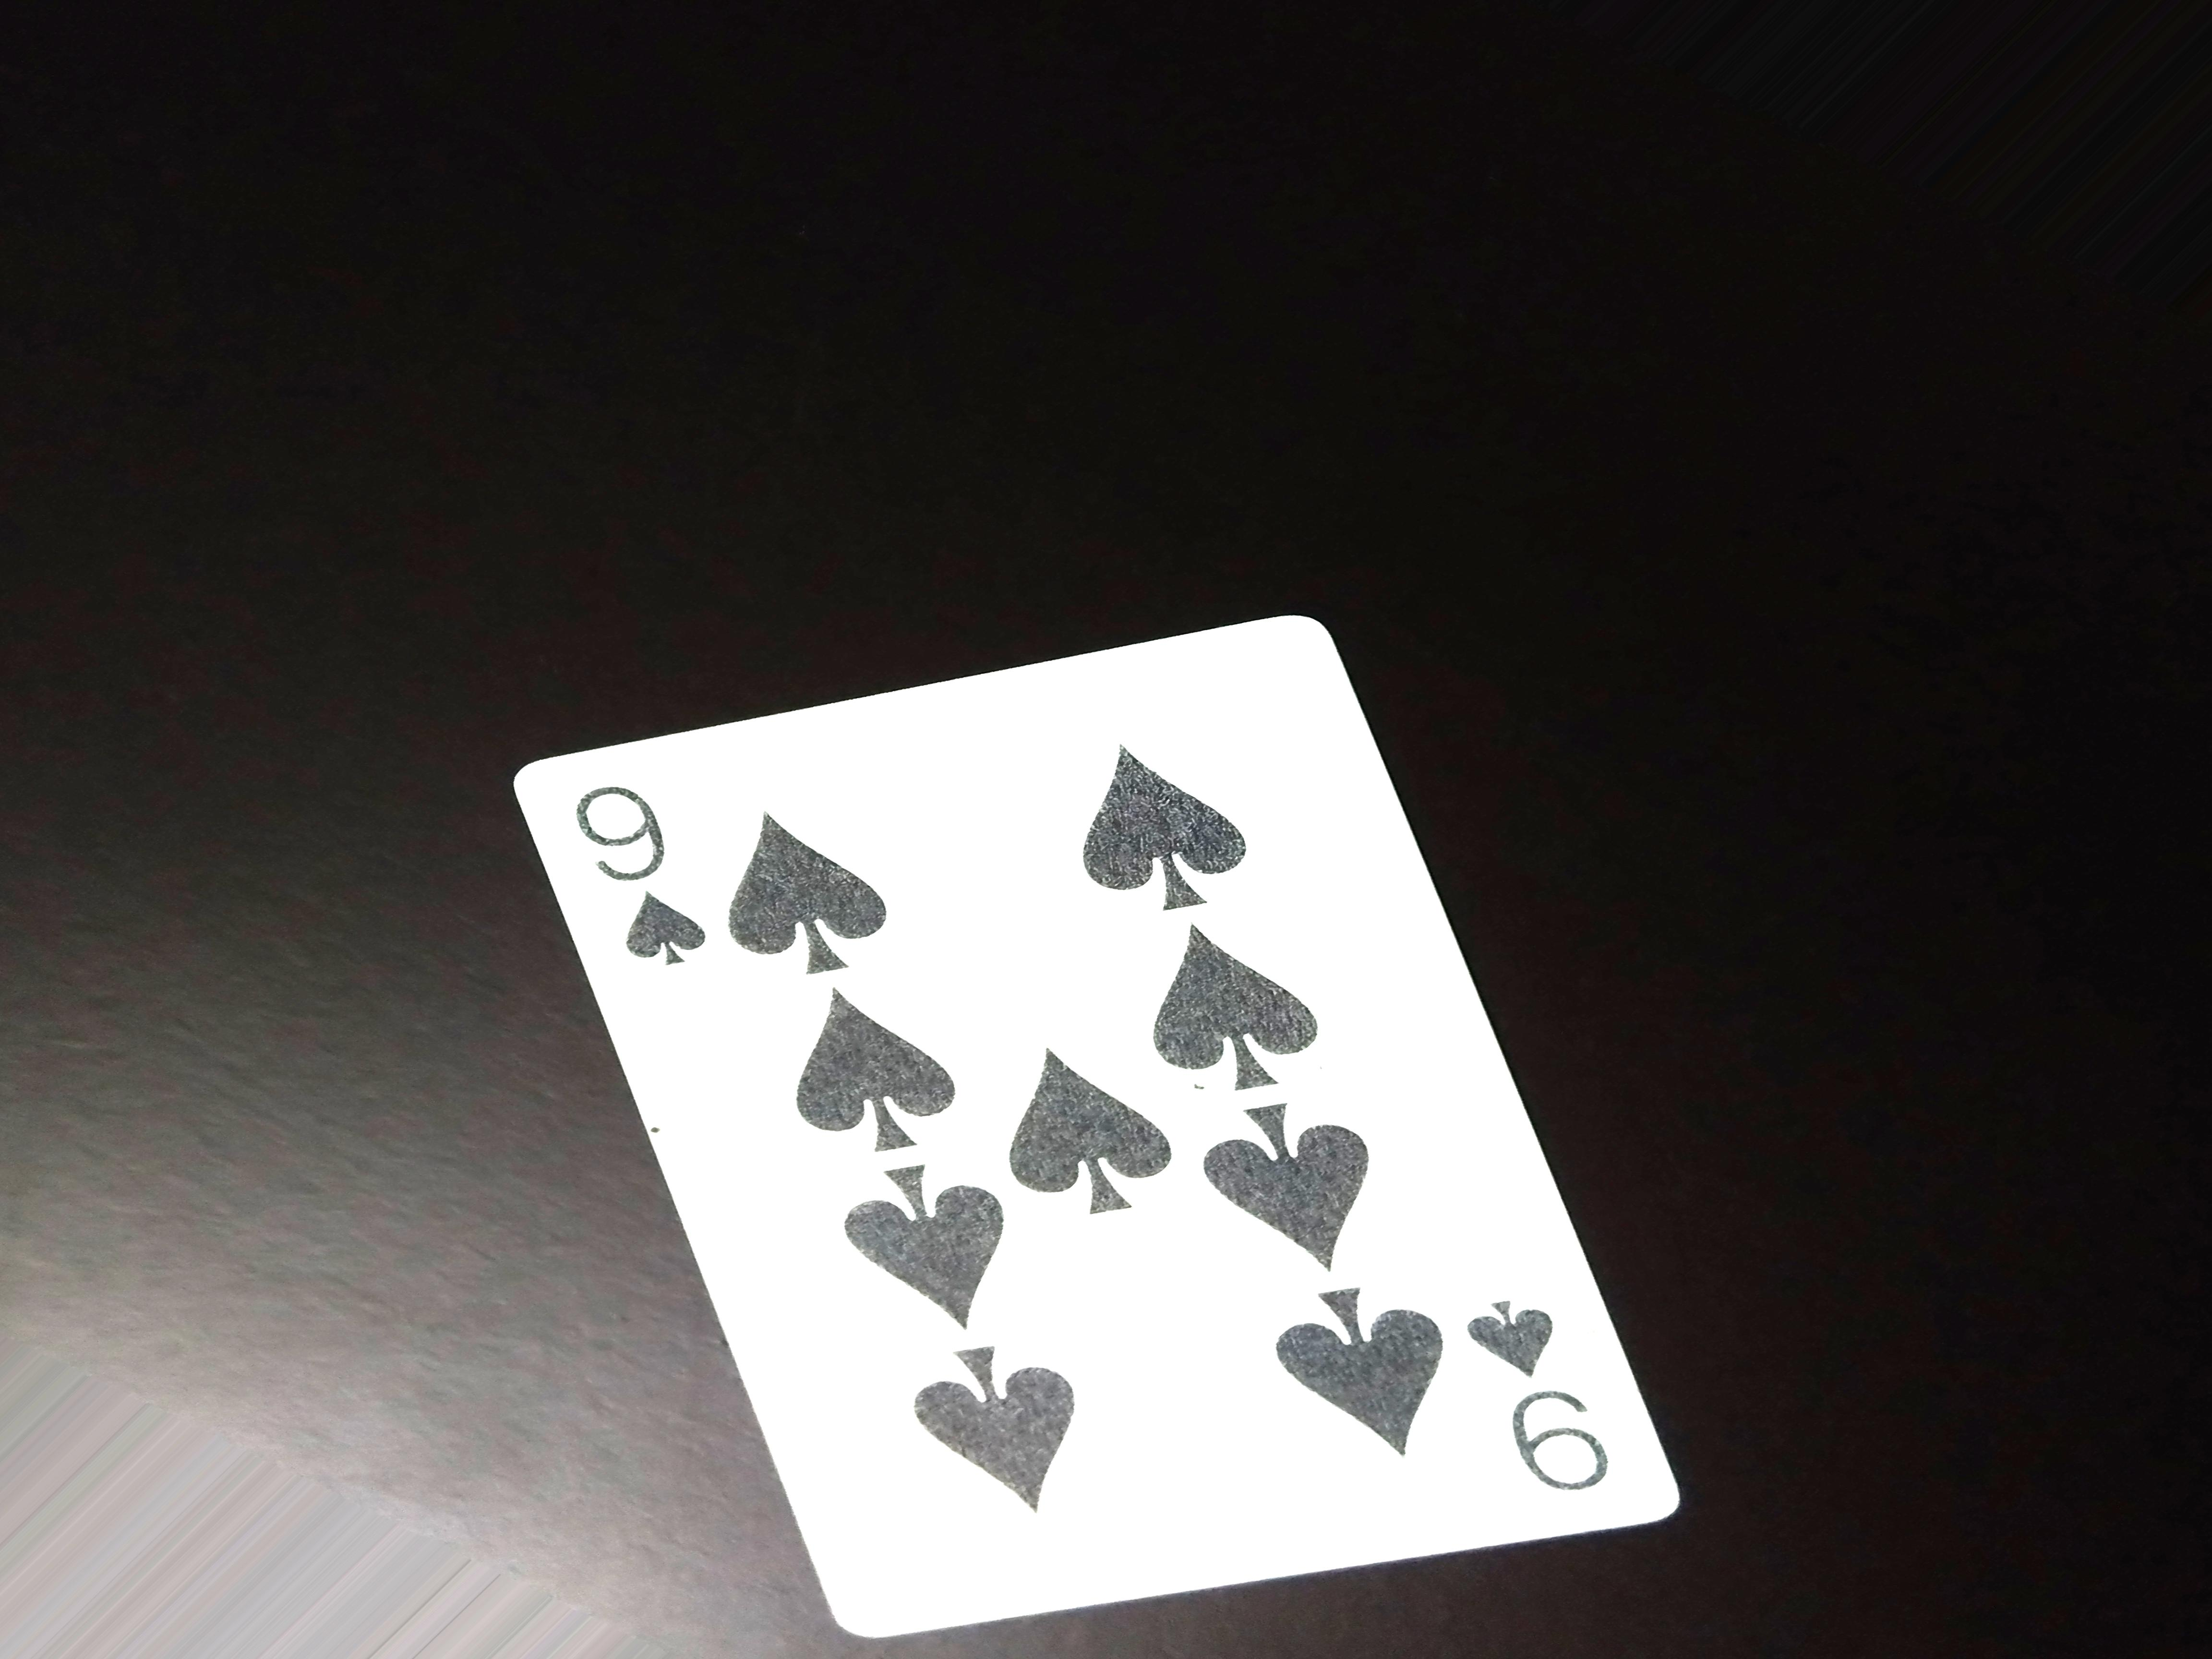9S: (571, 781, 718, 993)
